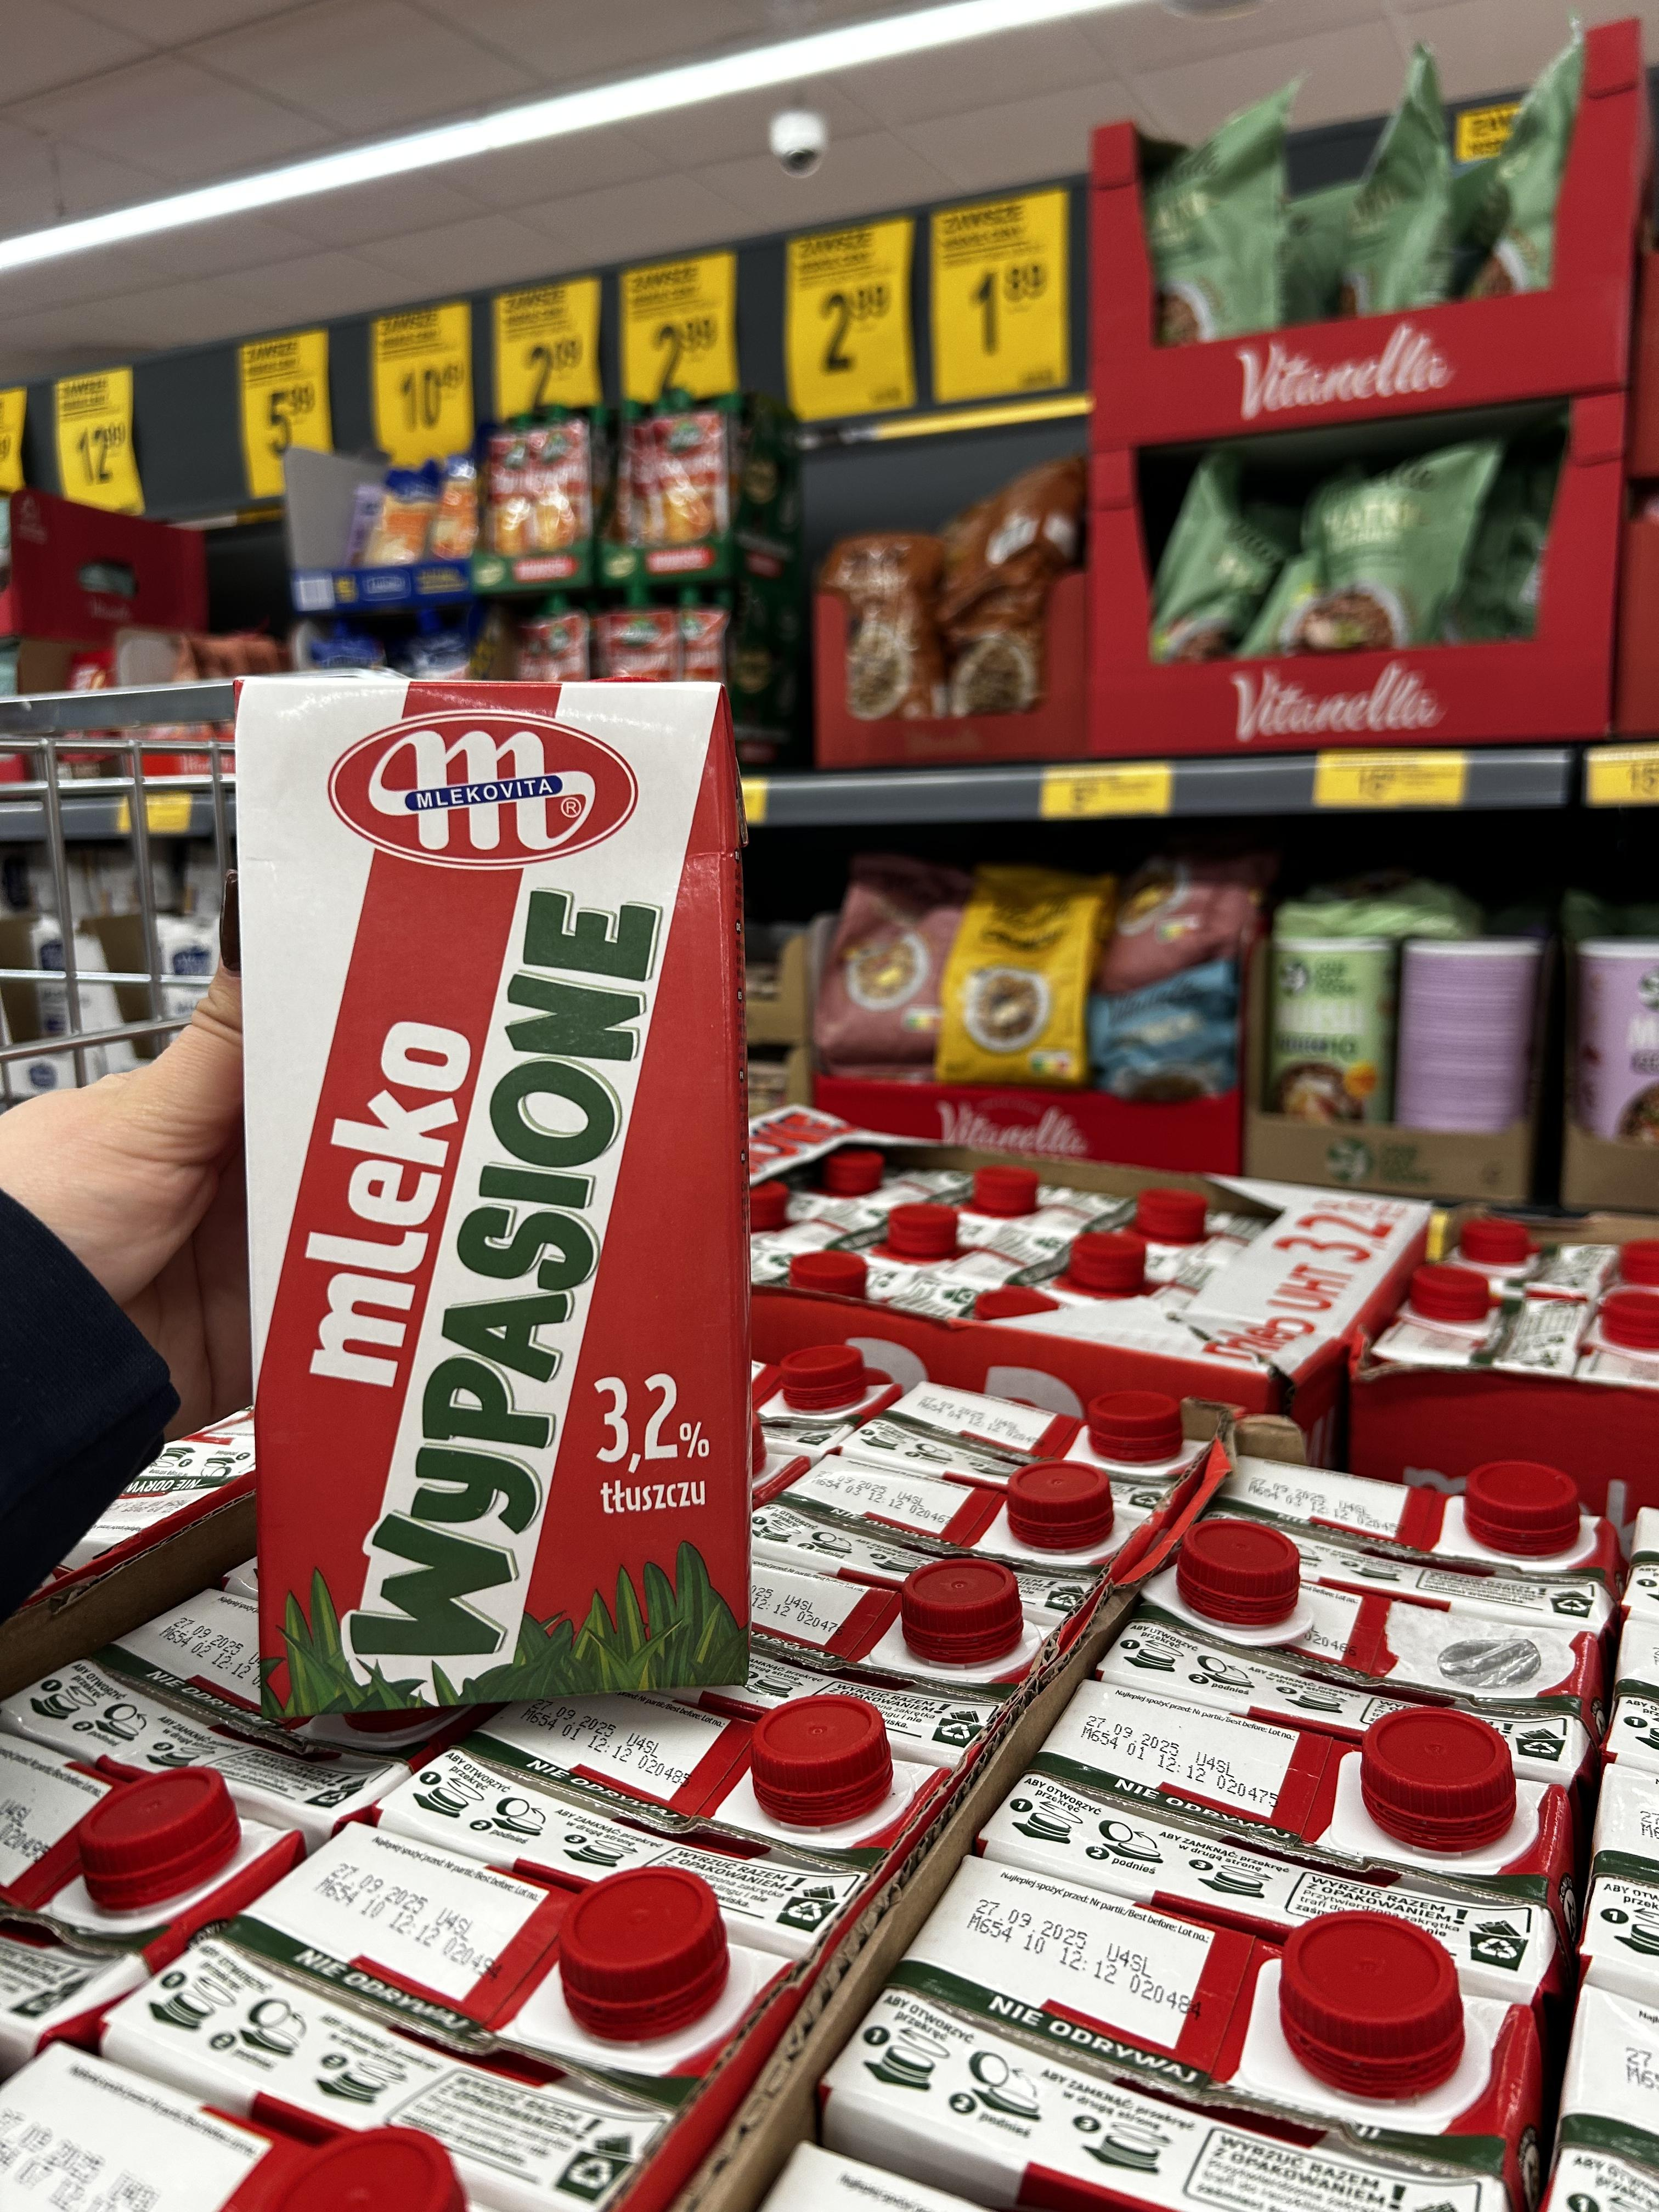Milk: (186, 613, 817, 1731)
